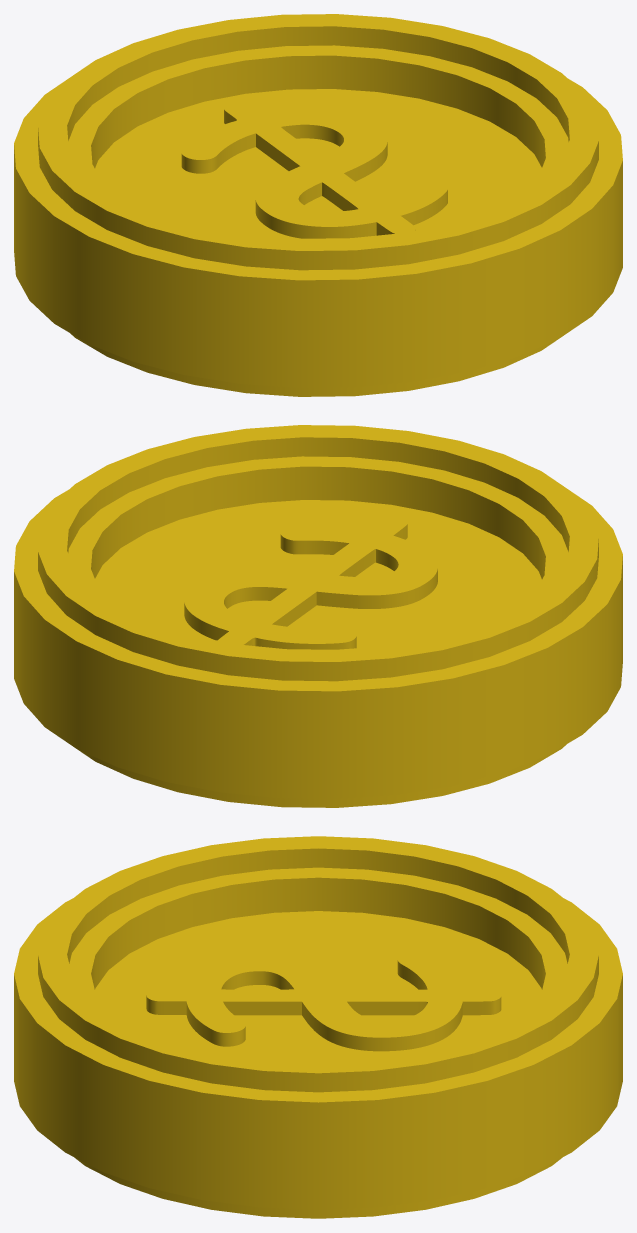
The model's file is coin 1.fbx.
3 views of the same model, one above another, from view 1: azimuth 30°, elevation 25°; view 2: azimuth 150°, elevation 25°; view 3: azimuth 270°, elevation 25° (orthographic).
Parts seen in each view (by area): view 1: Cylinder; view 2: Cylinder; view 3: Cylinder.
Part boxes in pixels (box(x1,y1,x2,y2)): Cylinder: box(14, 14, 622, 396); Cylinder: box(14, 425, 622, 807); Cylinder: box(14, 836, 622, 1218).
Bounding box in the file's own units: 0.2692 × 0.071 × 0.2692.
